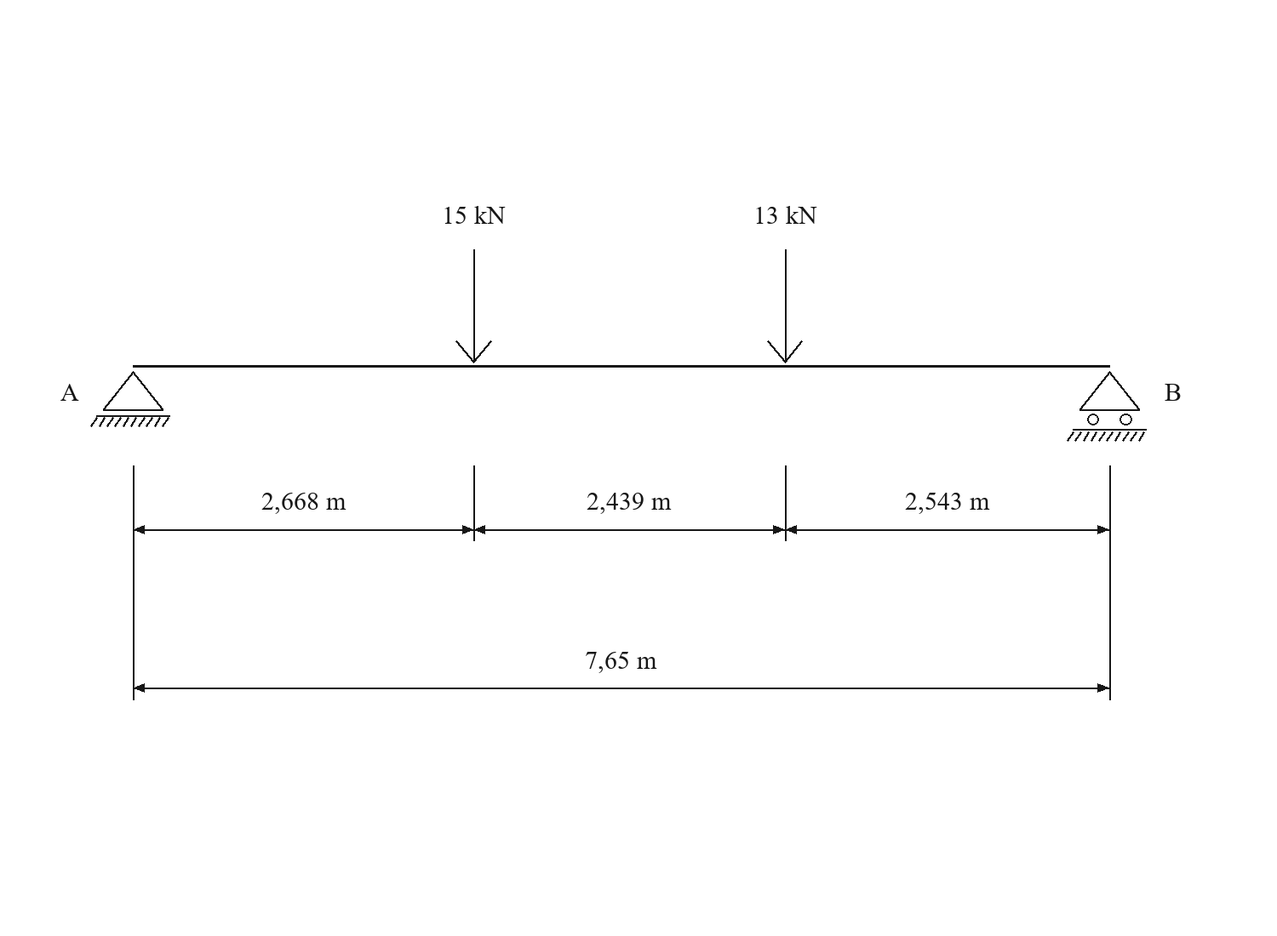pin_support: (90, 371, 170, 427)
point_load: (455, 249, 492, 363), (767, 249, 803, 363)
roller_support: (1067, 371, 1147, 442)
